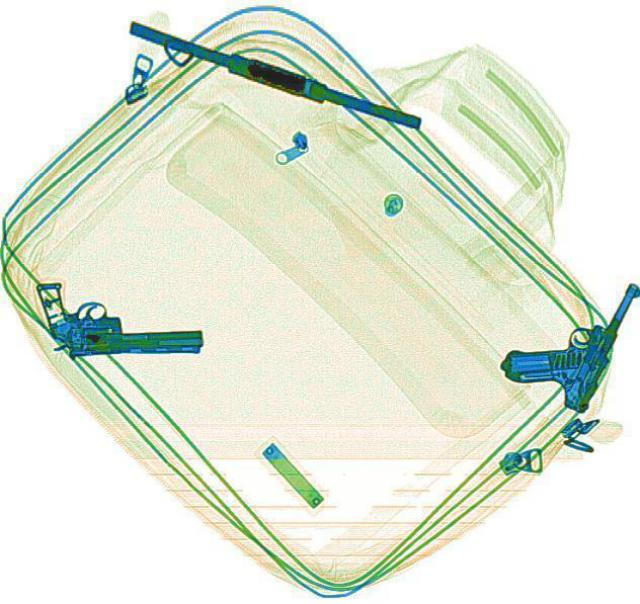Gun: (488, 254, 638, 416), (32, 278, 202, 356)
